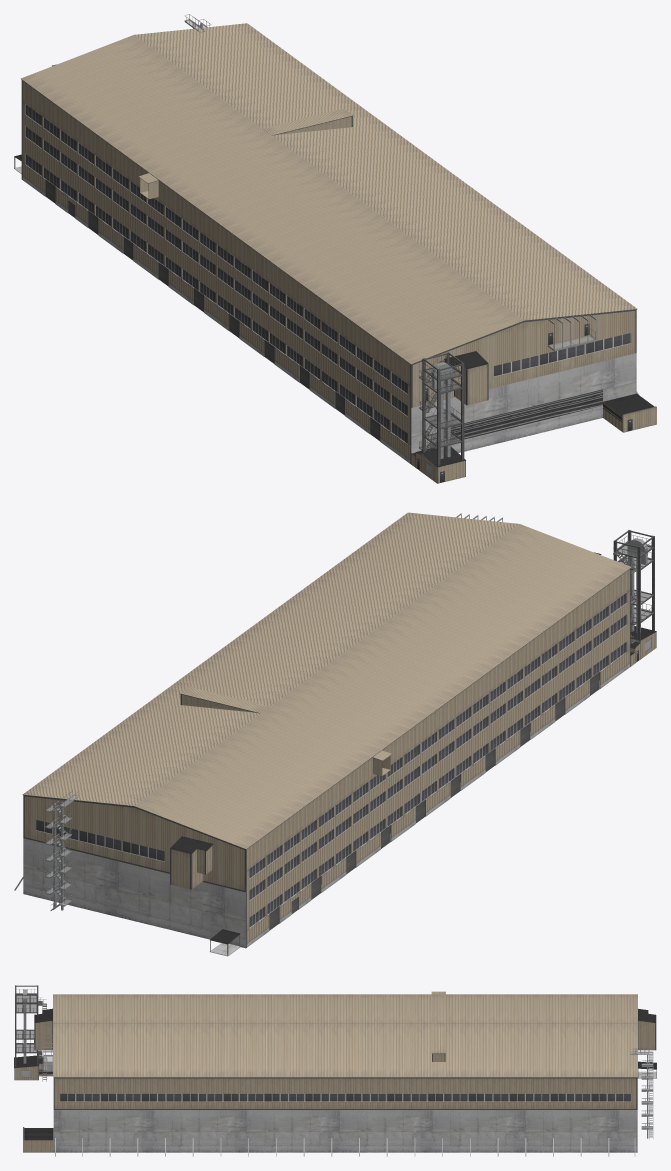
Rendered from plant-building7.glb.
3 renders of one model, top to bottom at view 1: azimuth 30°, elevation 25°; view 2: azimuth 150°, elevation 25°; view 3: azimuth 270°, elevation 25°, orthographic. The views are drawn at different scales.
Visible parts, largest first — view 1: Object8932495; view 2: Object8932495; view 3: Object8932495.
Boxes of the visible parts, x1,y1,x2,y2 form: Object8932495: [14, 14, 656, 483]; Object8932495: [14, 512, 656, 956]; Object8932495: [14, 985, 656, 1156].
Bounding box in the file's own units: 48.07 × 21.87 × 144.
Materials: 1 (1 with a texture image).
